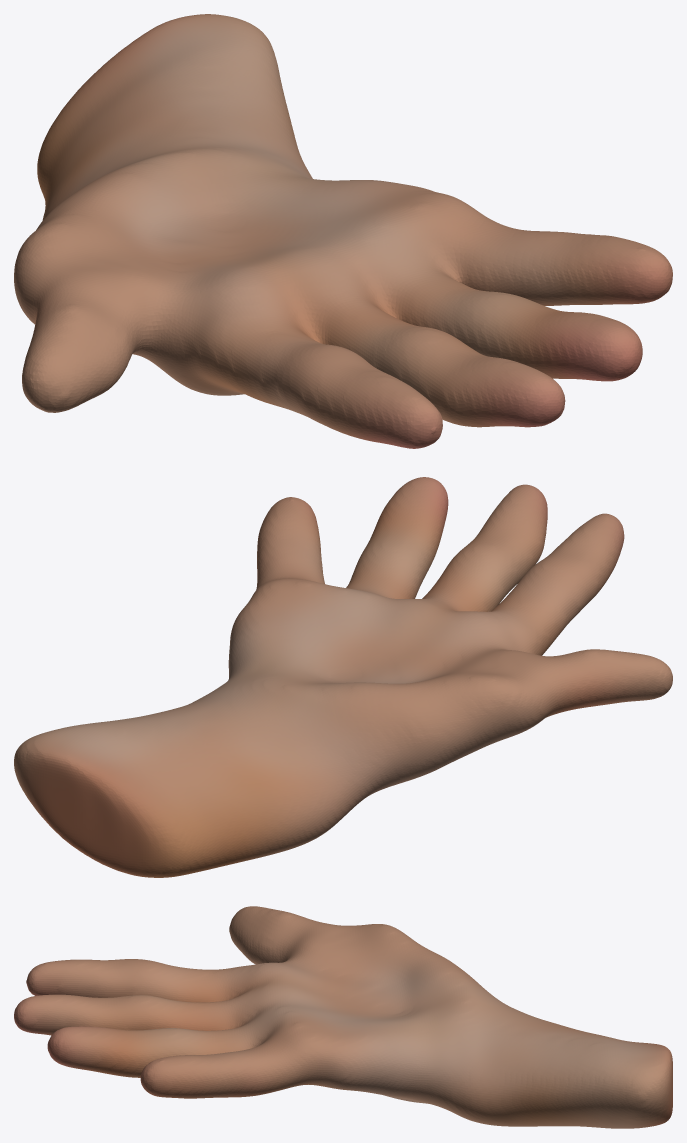
Rendered from hand_skin.glb.
The picture shows the model from 3 angles, top to bottom: view 1: azimuth 30°, elevation 25°; view 2: azimuth 150°, elevation 25°; view 3: azimuth 270°, elevation 25°; orthographic projection. The views are drawn at different scales.
Visible parts, largest first — view 1: world; view 2: world; view 3: world.
Boxes of the visible parts, left/top/right/bottom form: world: left=14, top=14, right=672, bottom=448; world: left=14, top=477, right=672, bottom=877; world: left=14, top=906, right=672, bottom=1128.
Bounding box in the file's own units: 160 × 49.28 × 240.
